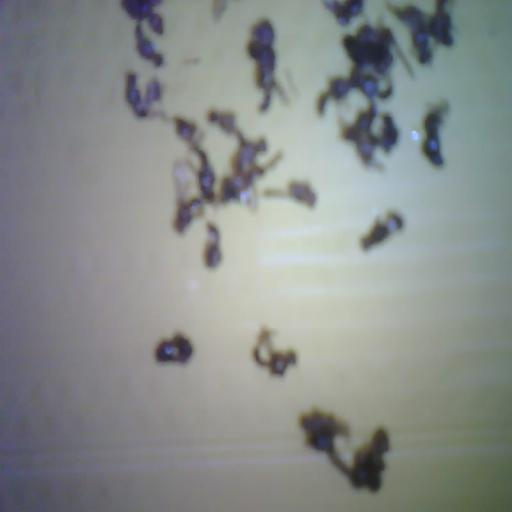Insects: (208, 111, 282, 209), (388, 0, 453, 63), (342, 102, 398, 168), (317, 66, 392, 114), (344, 24, 412, 75), (248, 20, 286, 111), (388, 3, 431, 63), (351, 428, 389, 491), (299, 410, 349, 453), (342, 104, 377, 165), (173, 161, 202, 232), (253, 328, 296, 375), (423, 101, 449, 166), (125, 72, 161, 117), (361, 212, 403, 250), (264, 181, 316, 207), (192, 146, 215, 201), (136, 23, 163, 67), (429, 0, 453, 46), (155, 334, 193, 363), (324, 0, 363, 25), (172, 117, 202, 145), (121, 0, 161, 21), (204, 223, 222, 268), (377, 114, 398, 151), (208, 110, 237, 134), (212, 0, 229, 21)
